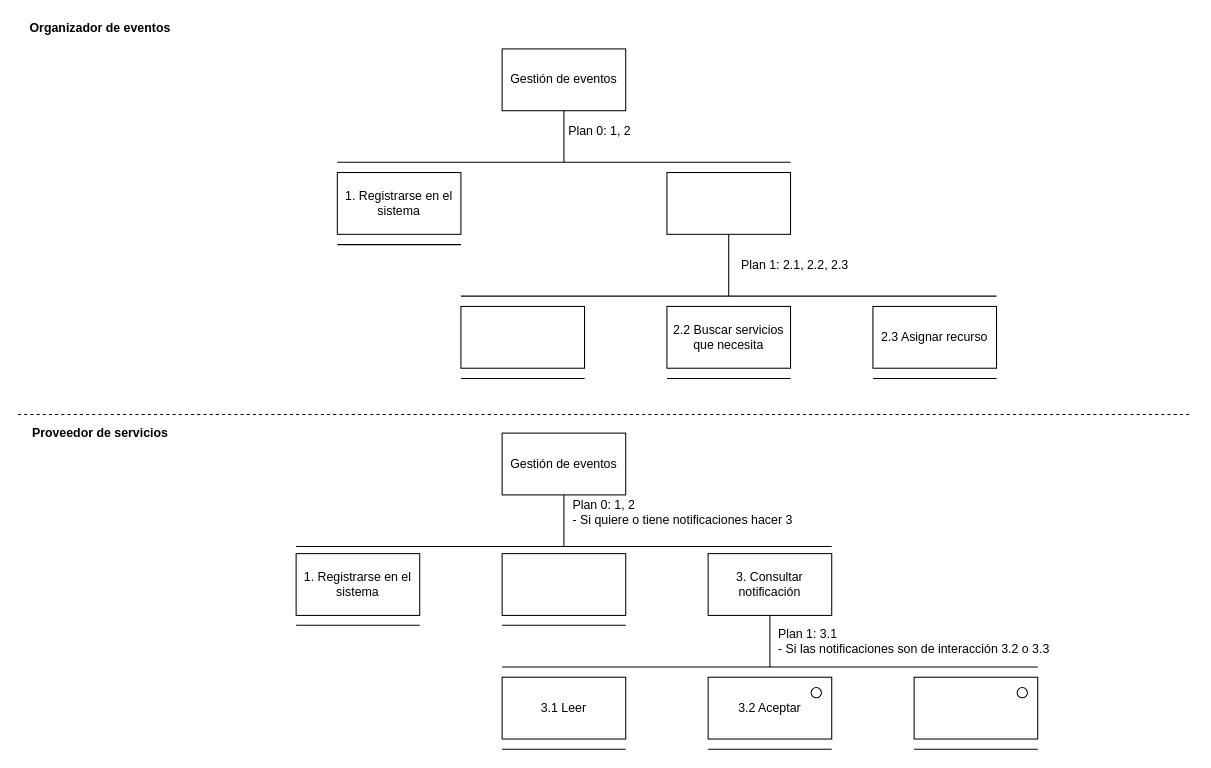
This 1211x768 diagram has some shape labels left out. The shapes that lost their labels are listed below. From the top down, each one's centre as x and y in pixels, then its label:
At point 728,202: "2.Publicar evento".
At point 522,336: "2.1 Definir datos del evento".
At point 563,584: "2. Registrar servicio".
At point 975,707: "3.3 Rechazar".
